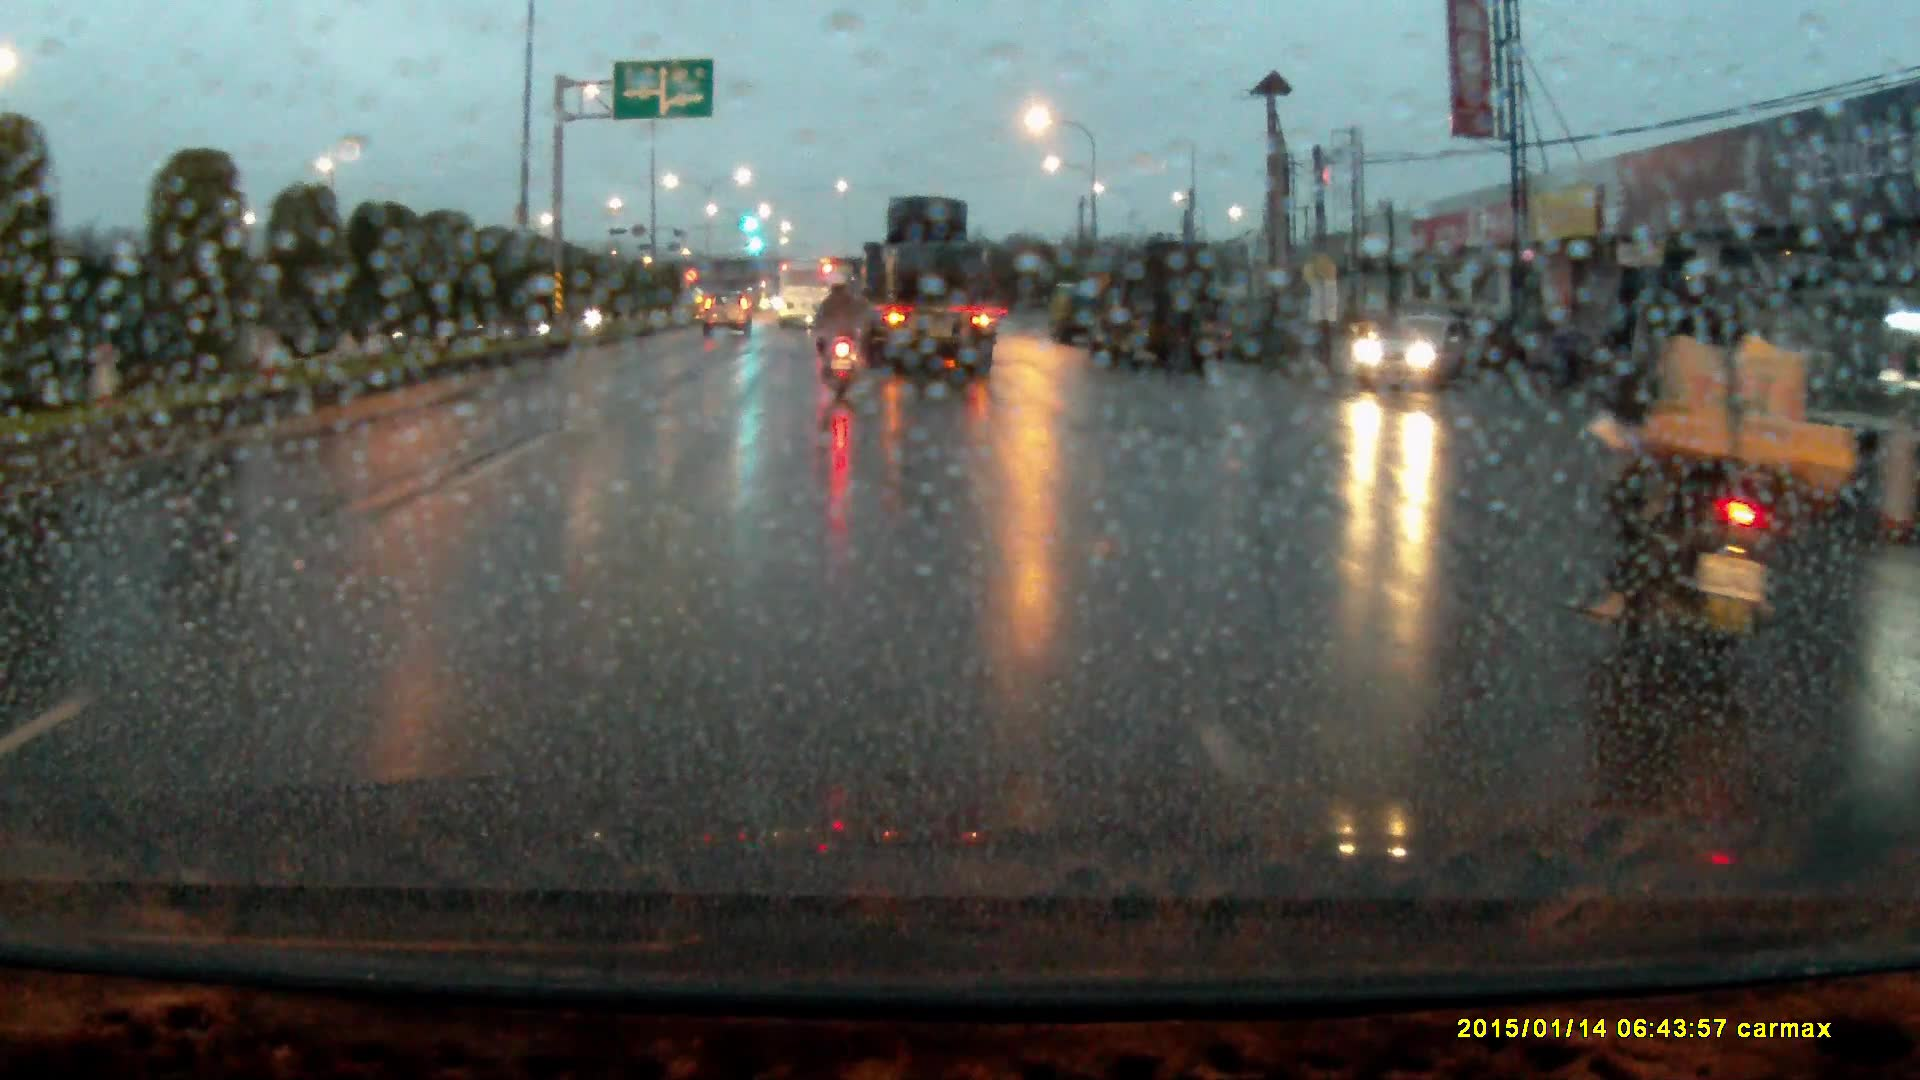rider: (1582, 249, 1870, 669), (815, 272, 871, 399)
vehicle: (853, 196, 991, 375), (1096, 239, 1235, 373), (1354, 314, 1482, 395), (779, 263, 845, 330), (1051, 281, 1102, 343), (702, 290, 754, 340)
